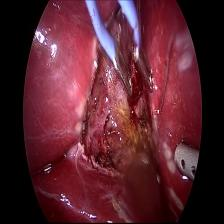Bipolar: (79, 2, 164, 110)
Irrigator: (174, 140, 203, 190)
